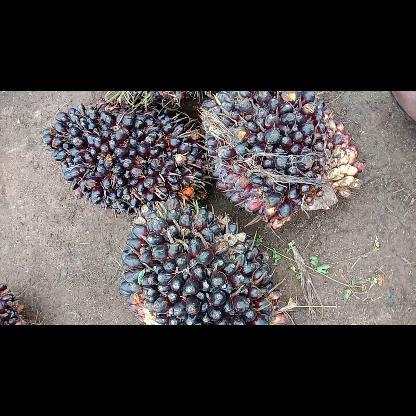TBS mentah: (198, 91, 366, 231), (116, 196, 294, 324), (38, 101, 212, 215)
